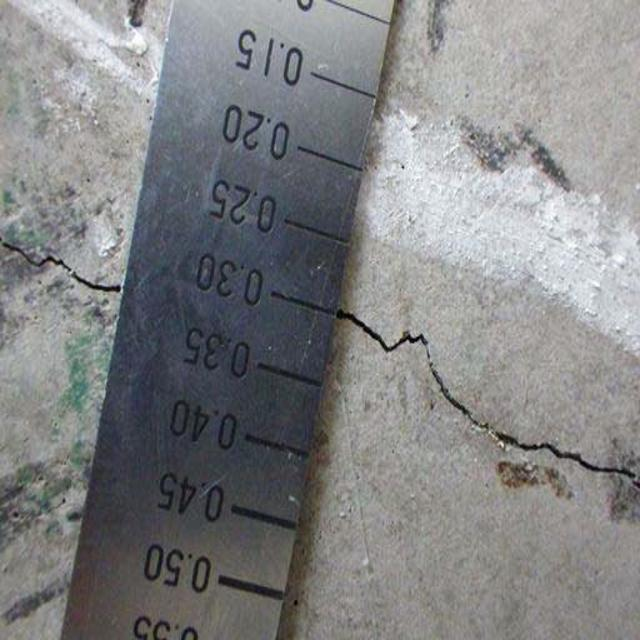crack: (333, 290, 640, 506), (3, 222, 124, 317)
